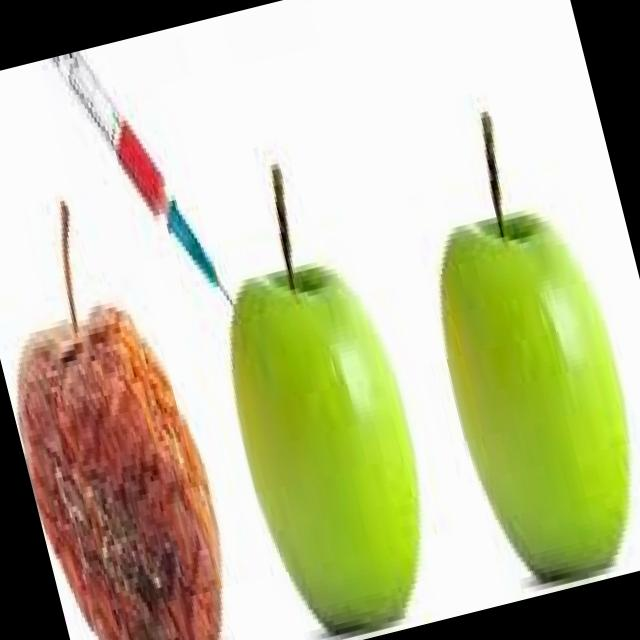Green Juicy Apple: (205, 248, 451, 640), (410, 193, 640, 595)
Rotten Apple: (0, 294, 253, 640)
